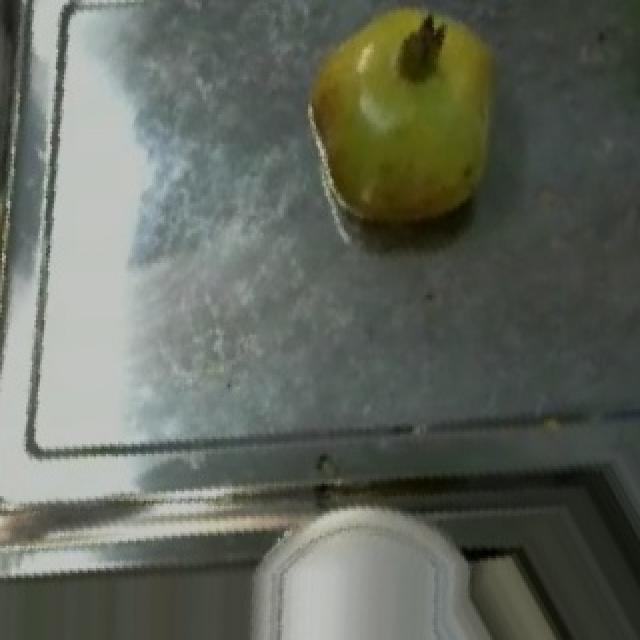fruit: (264, 0, 534, 263)
